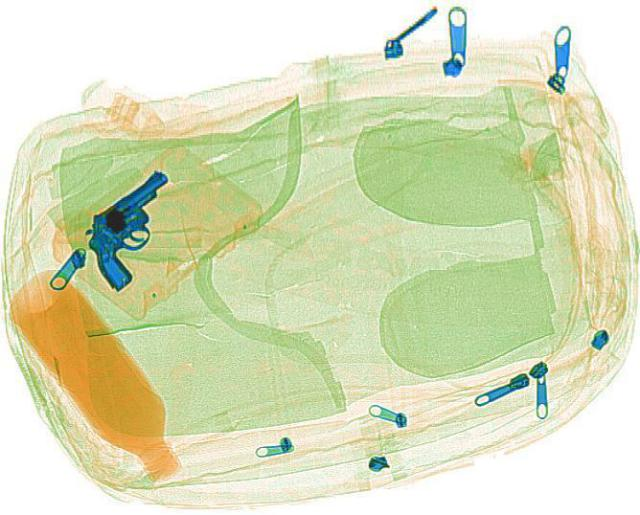Gun: (60, 158, 192, 295)
